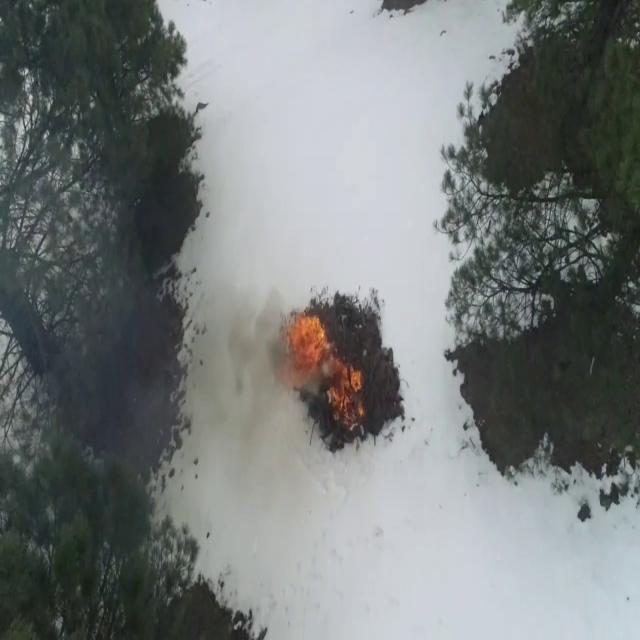fire: (285, 310, 327, 383), (330, 361, 364, 427)
